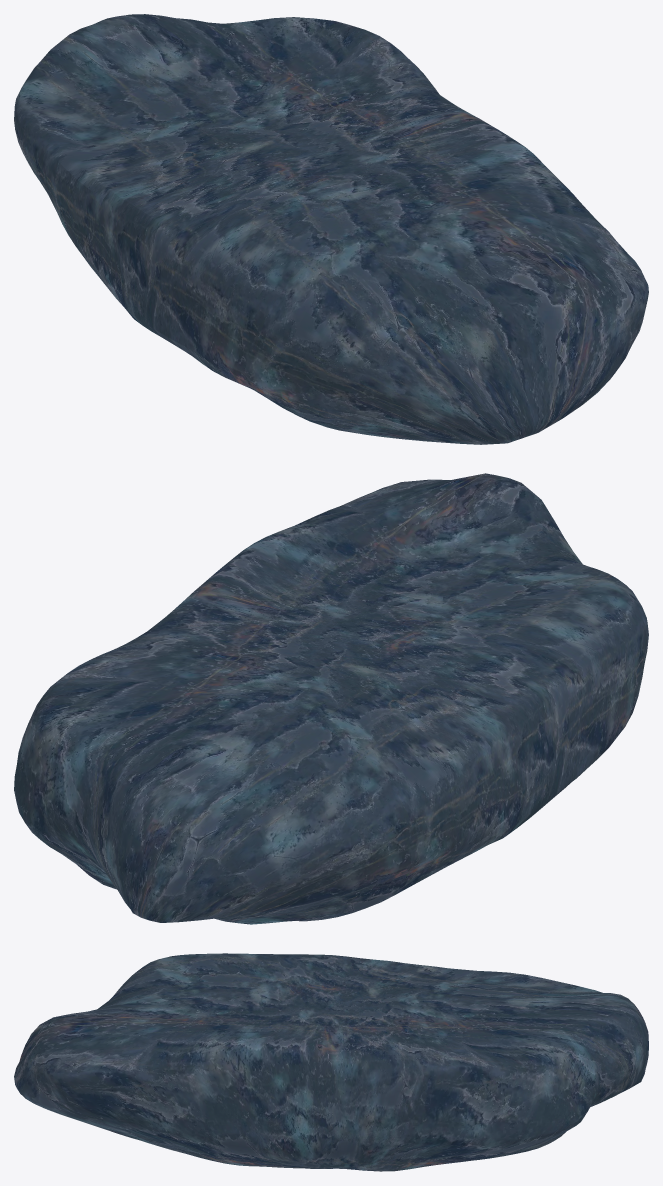
The picture shows the model from 3 angles, top to bottom: view 1: azimuth 30°, elevation 25°; view 2: azimuth 150°, elevation 25°; view 3: azimuth 270°, elevation 25°; orthographic projection. The views are drawn at different scales.
Parts seen in each view (by area): view 1: SM_Cave_Floor_04_LOD0; view 2: SM_Cave_Floor_04_LOD0; view 3: SM_Cave_Floor_04_LOD0.
Part boxes in pixels (left/top/right/bottom): SM_Cave_Floor_04_LOD0: left=14, top=14, right=648, bottom=444; SM_Cave_Floor_04_LOD0: left=14, top=473, right=648, bottom=924; SM_Cave_Floor_04_LOD0: left=14, top=953, right=648, bottom=1171.
Bounding box in the file's own units: 2.21 × 1.27 × 4.42.
Materials: 1 (1 with a texture image).
